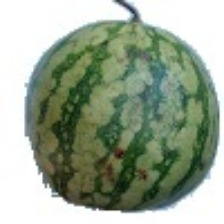watermelon: (4, 43, 181, 222)
